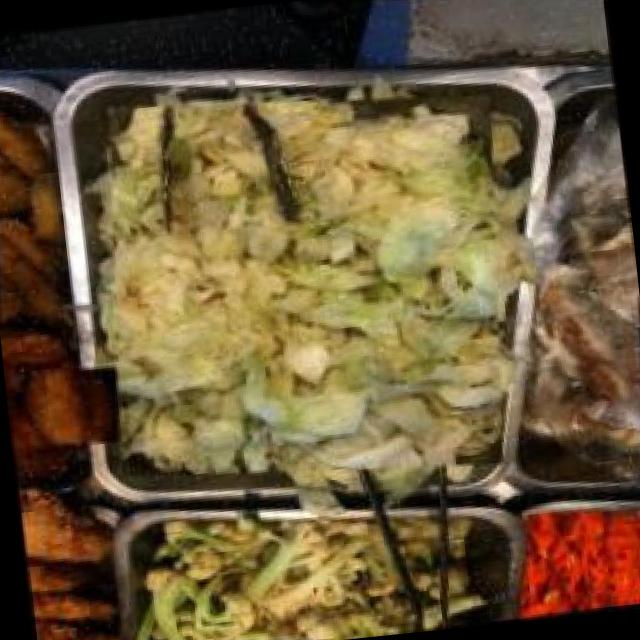carrot_eggs: (516, 499, 640, 617)
chinese_cabbage: (76, 60, 537, 512)
triangle_hash_brown: (1, 338, 114, 473)
